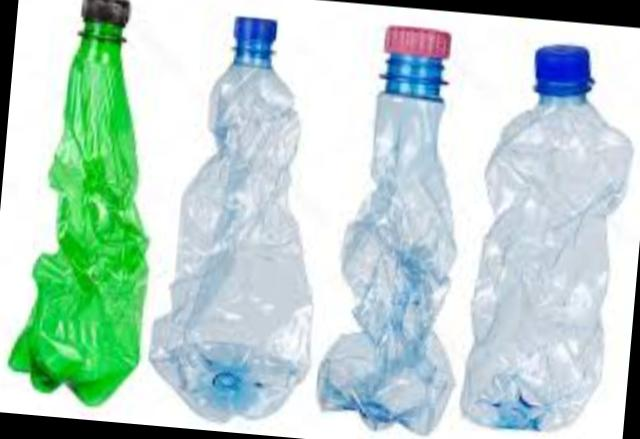plastic: (466, 42, 636, 425), (155, 14, 315, 415), (323, 22, 459, 428), (13, 0, 149, 400)
